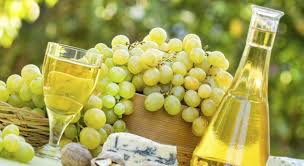Green grapes: (94, 57, 227, 115)
